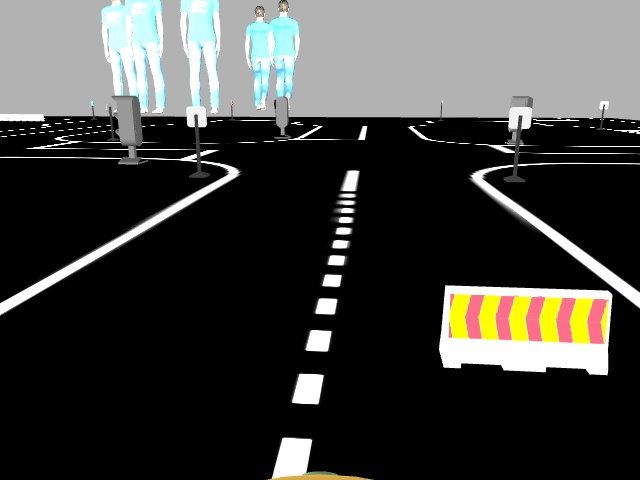ClosedRoadStand: (446, 286, 609, 371)
